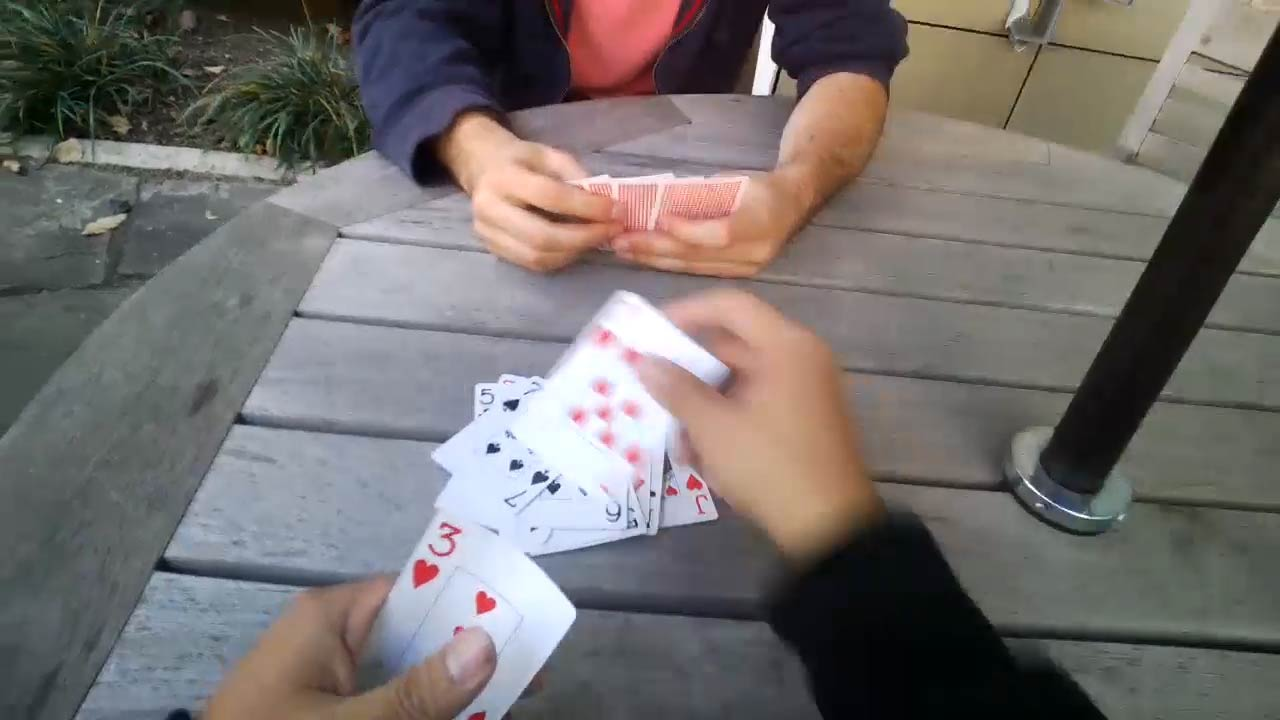hand: (637, 290, 871, 563), (204, 577, 481, 717), (609, 172, 810, 274), (472, 145, 629, 273)
